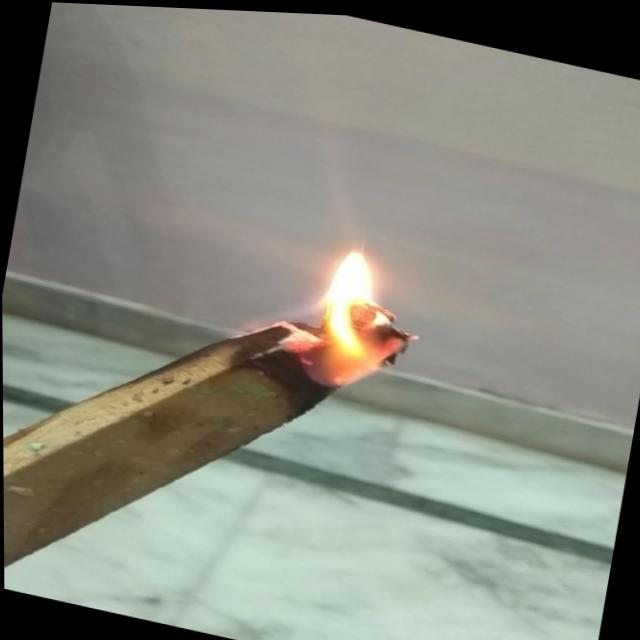fire: (267, 222, 435, 397)
